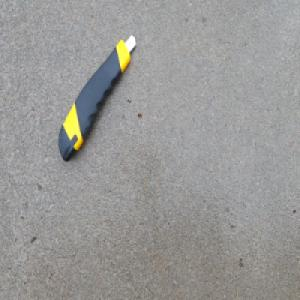Cutter: (58, 31, 138, 163)
